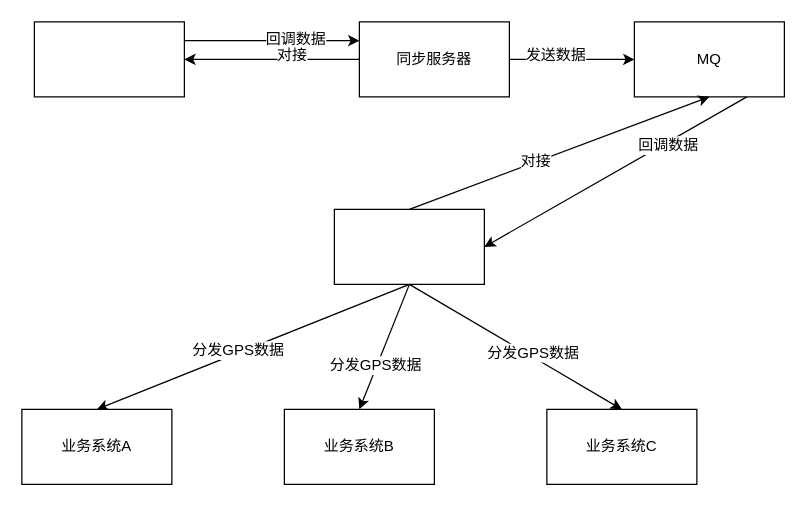
Image size: 806x506. Some labels were removed from this diagram. Each missing label, with the box of its shape:
GPS: (33, 21, 184, 97)
数据应用服务: (333, 208, 484, 284)
